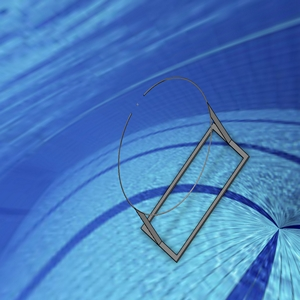circle: (115, 75, 247, 264)
